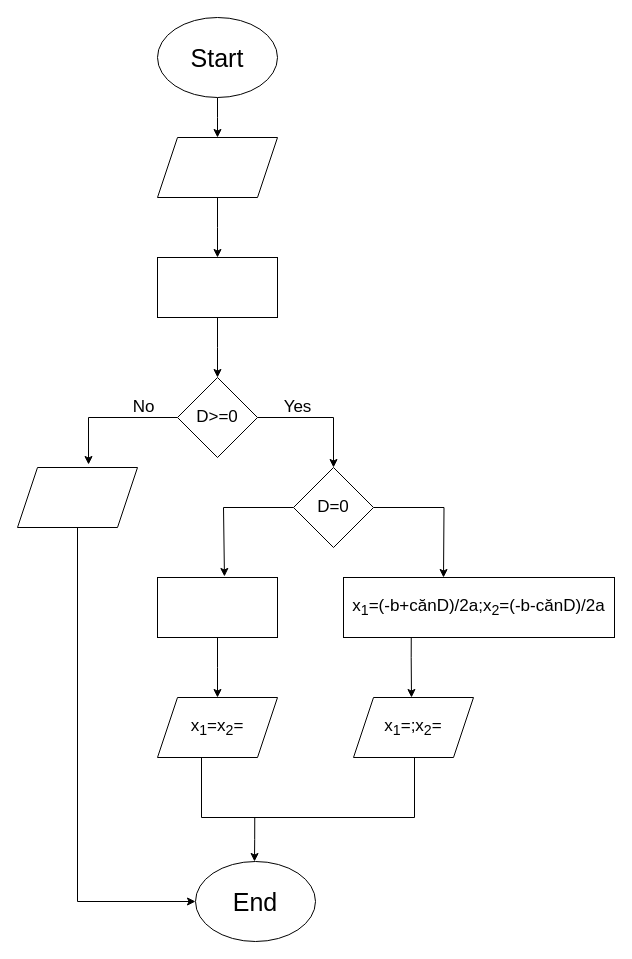
This 632x959 diagram has some shape labels left out. The centre of each missing label's shape, as x and y in pixels:
"D=b 2 -4ac" goes at pixel 217 287.
"Nhập a,b,c" goes at pixel 217 167.
"Vô Nghiệm" goes at pixel 77 497.
"x 1 =x 2 =-b/a" goes at pixel 217 607.
